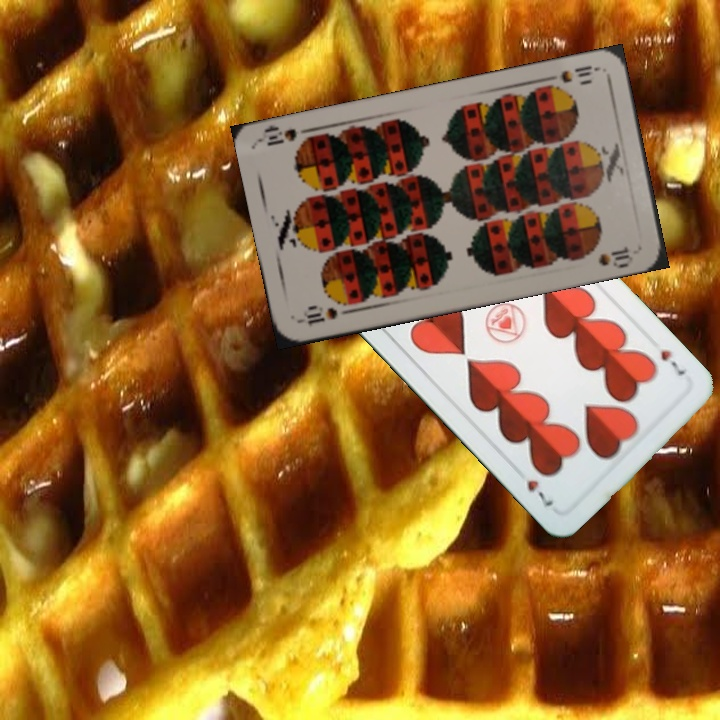H7: (656, 345, 690, 379)
S10: (542, 61, 601, 92), (296, 303, 355, 328)
